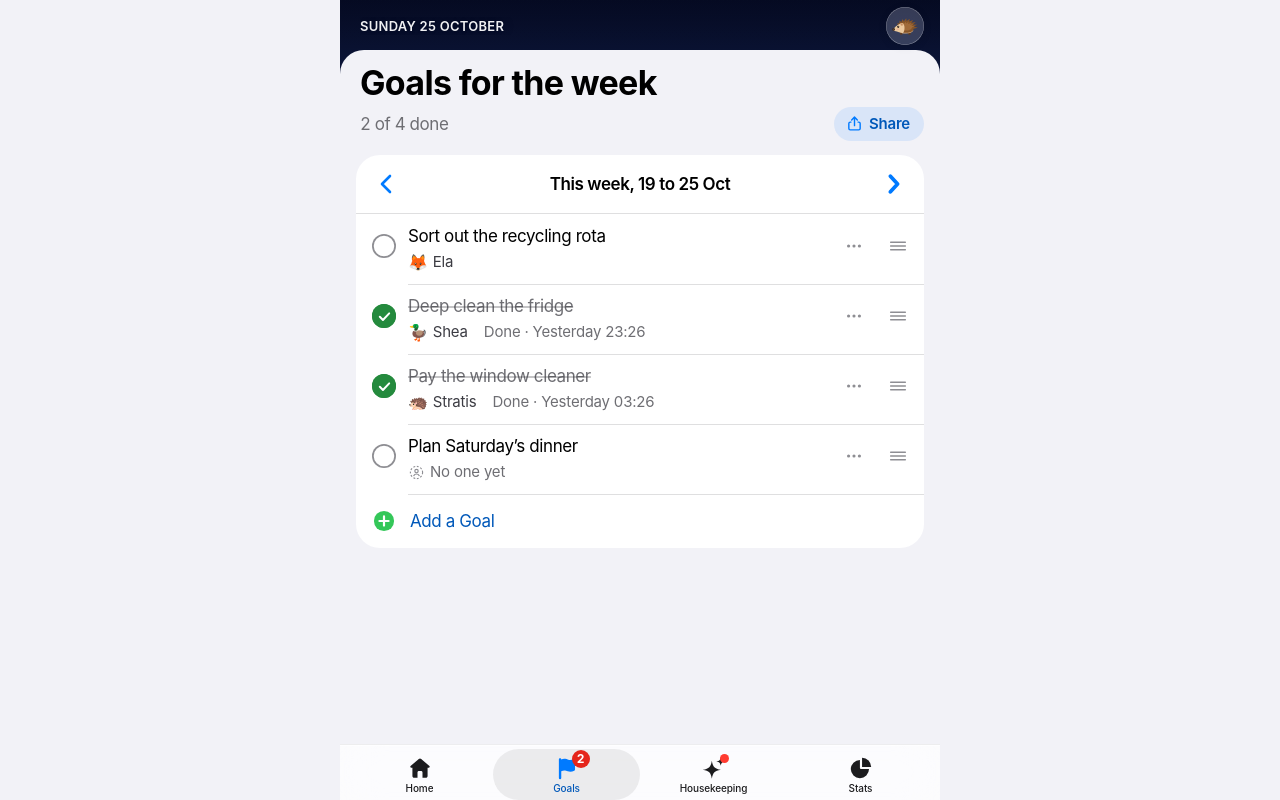
Test: Goals for the week › renames in place and chooses who is on it
Expected: the heading "Goals for the week" is shown, [360,62,657,103]
Replace the text in the 4th text box named "Goal" with "Plan Sunday lunch": (620, 446) [408,434,832,458]
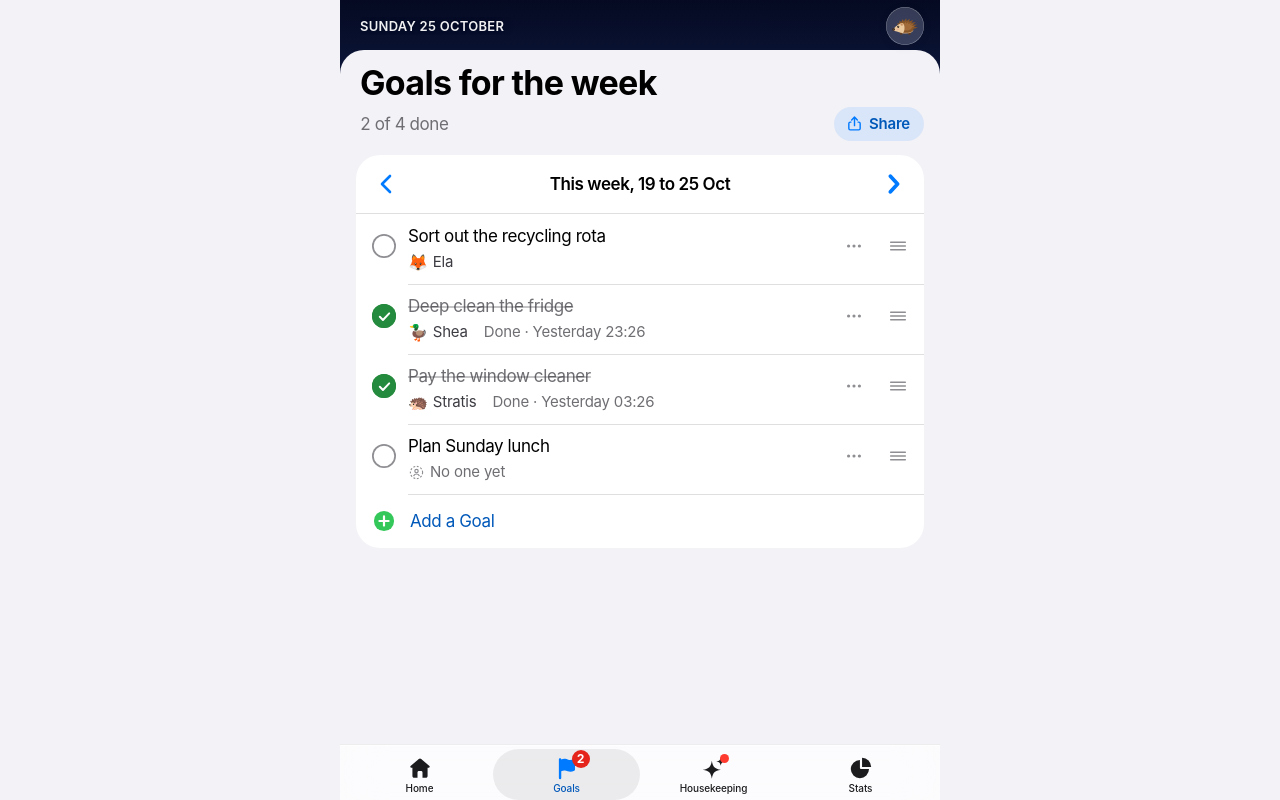
Press Enter in the 4th text box named "Goal", box [408,434,832,458]
Click the button with aria-label "Choose who is on Plan Sunday lunch": (458, 472) [402,461,513,483]
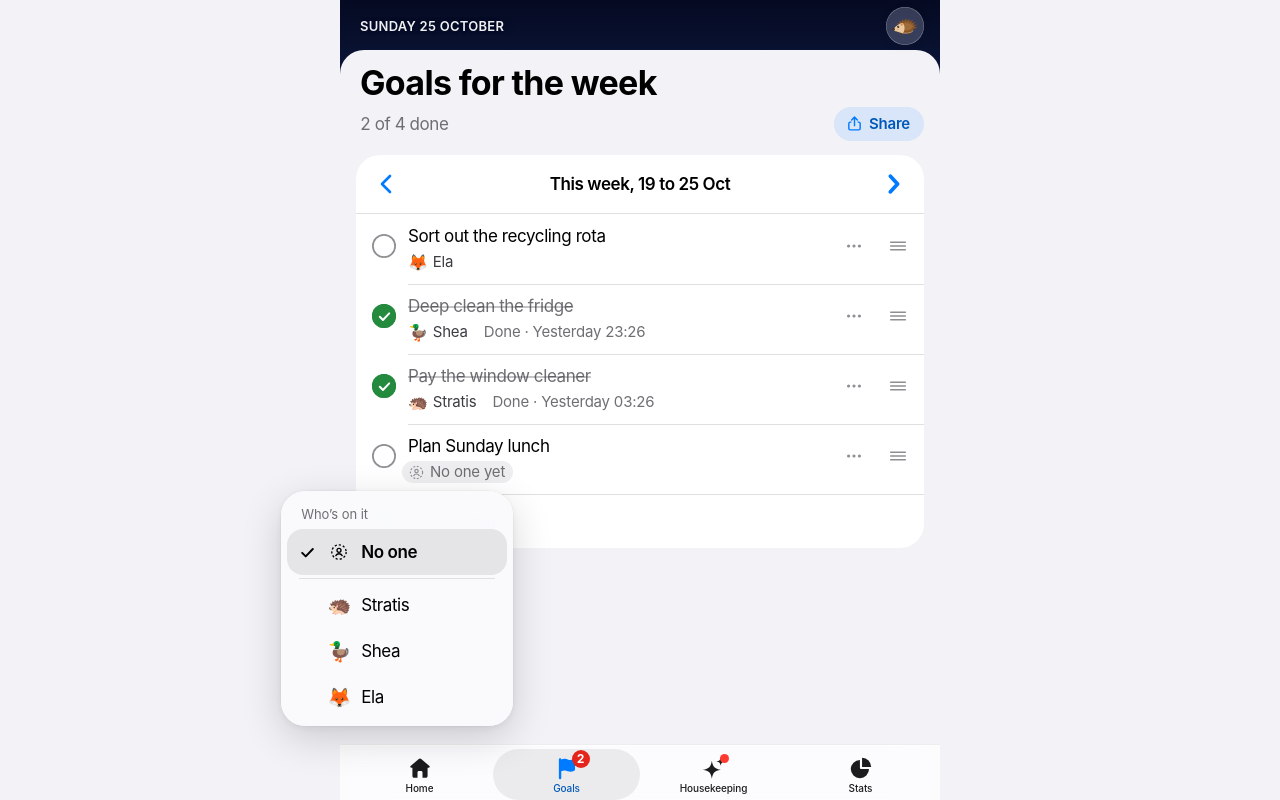
Click the menu item "🦆 Shea": (397, 651) [287,628,507,674]
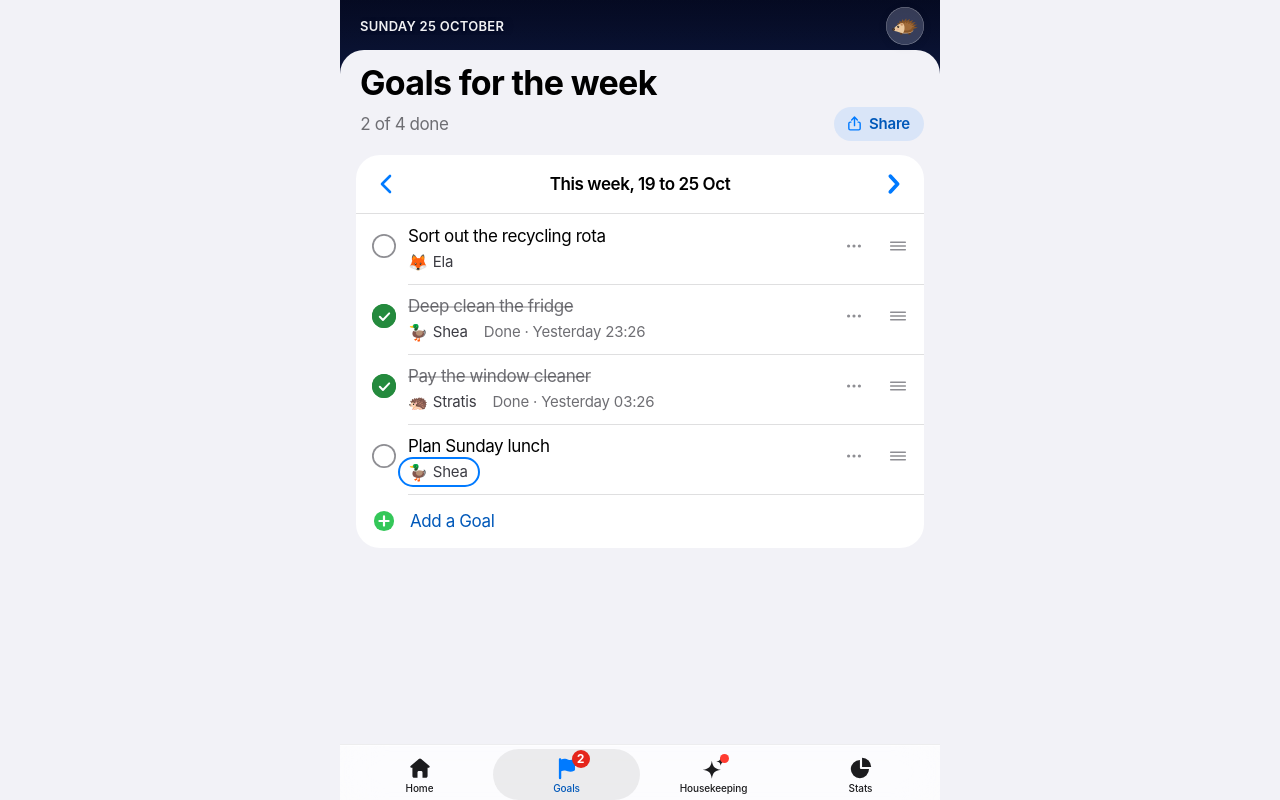
Now the button with aria-label "On it: Shea." shows "Shea", box [402,461,476,483]
